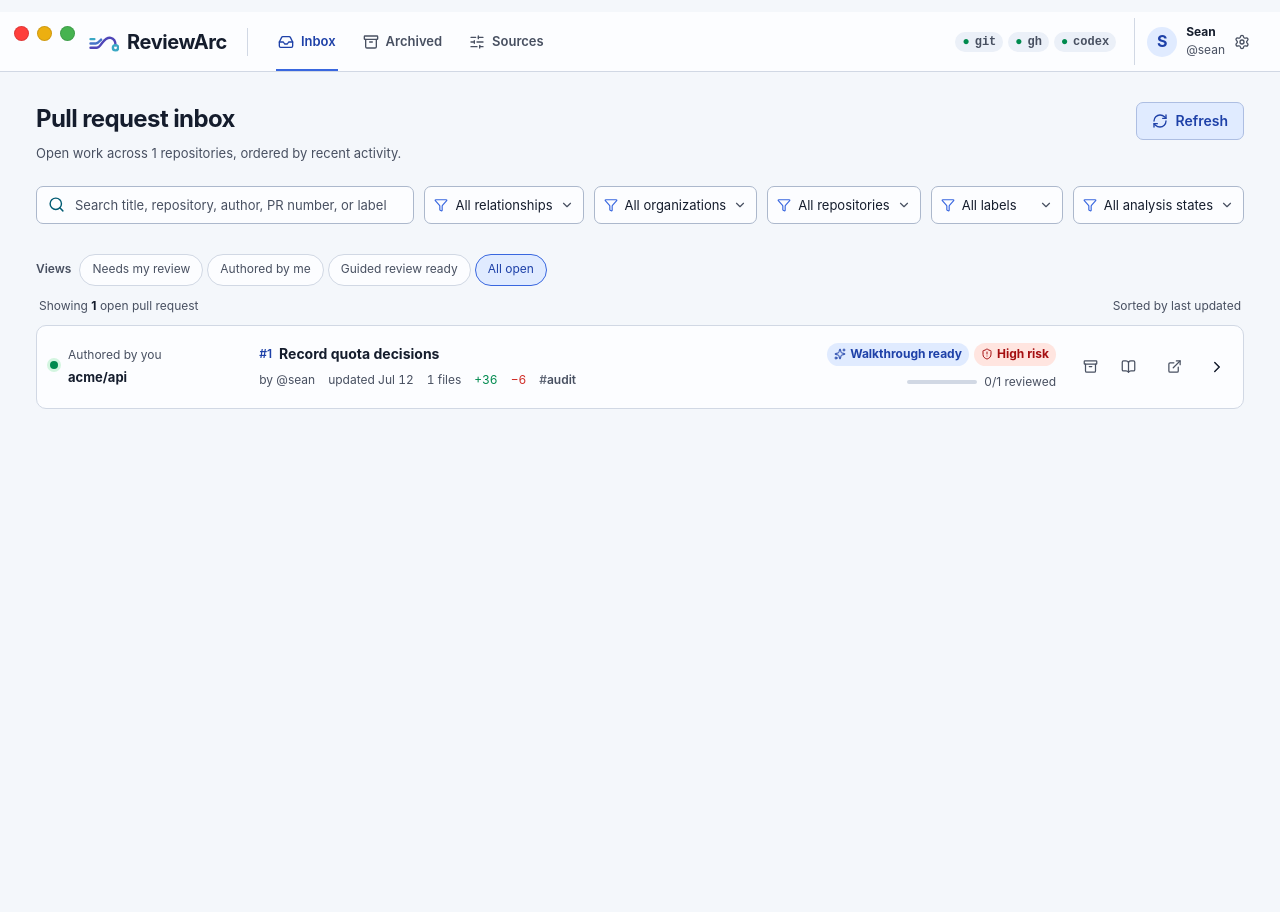
Test: App startup › renders the core session before lazy discussion and checks finish
Click the button "Record quota decisions" at (115, 355), box [37, 326, 1243, 408]
(page scrolled)
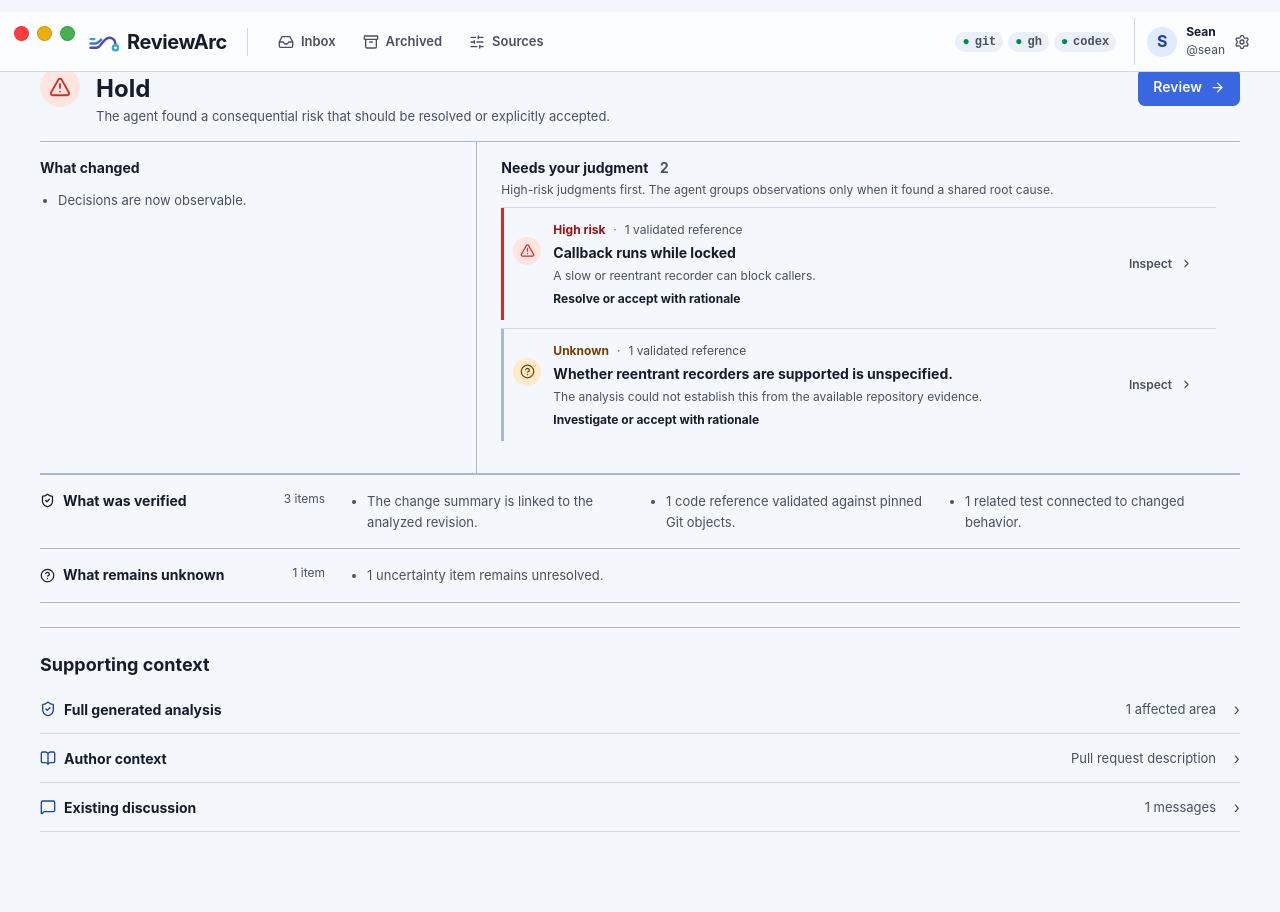
Expected: the text "Existing discussion" is shown, [40, 798, 196, 817]
